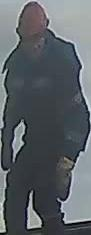gloves: (51, 151, 76, 203), (0, 136, 15, 173)
helmet: (14, 0, 48, 38)
vest: (10, 38, 78, 142)
